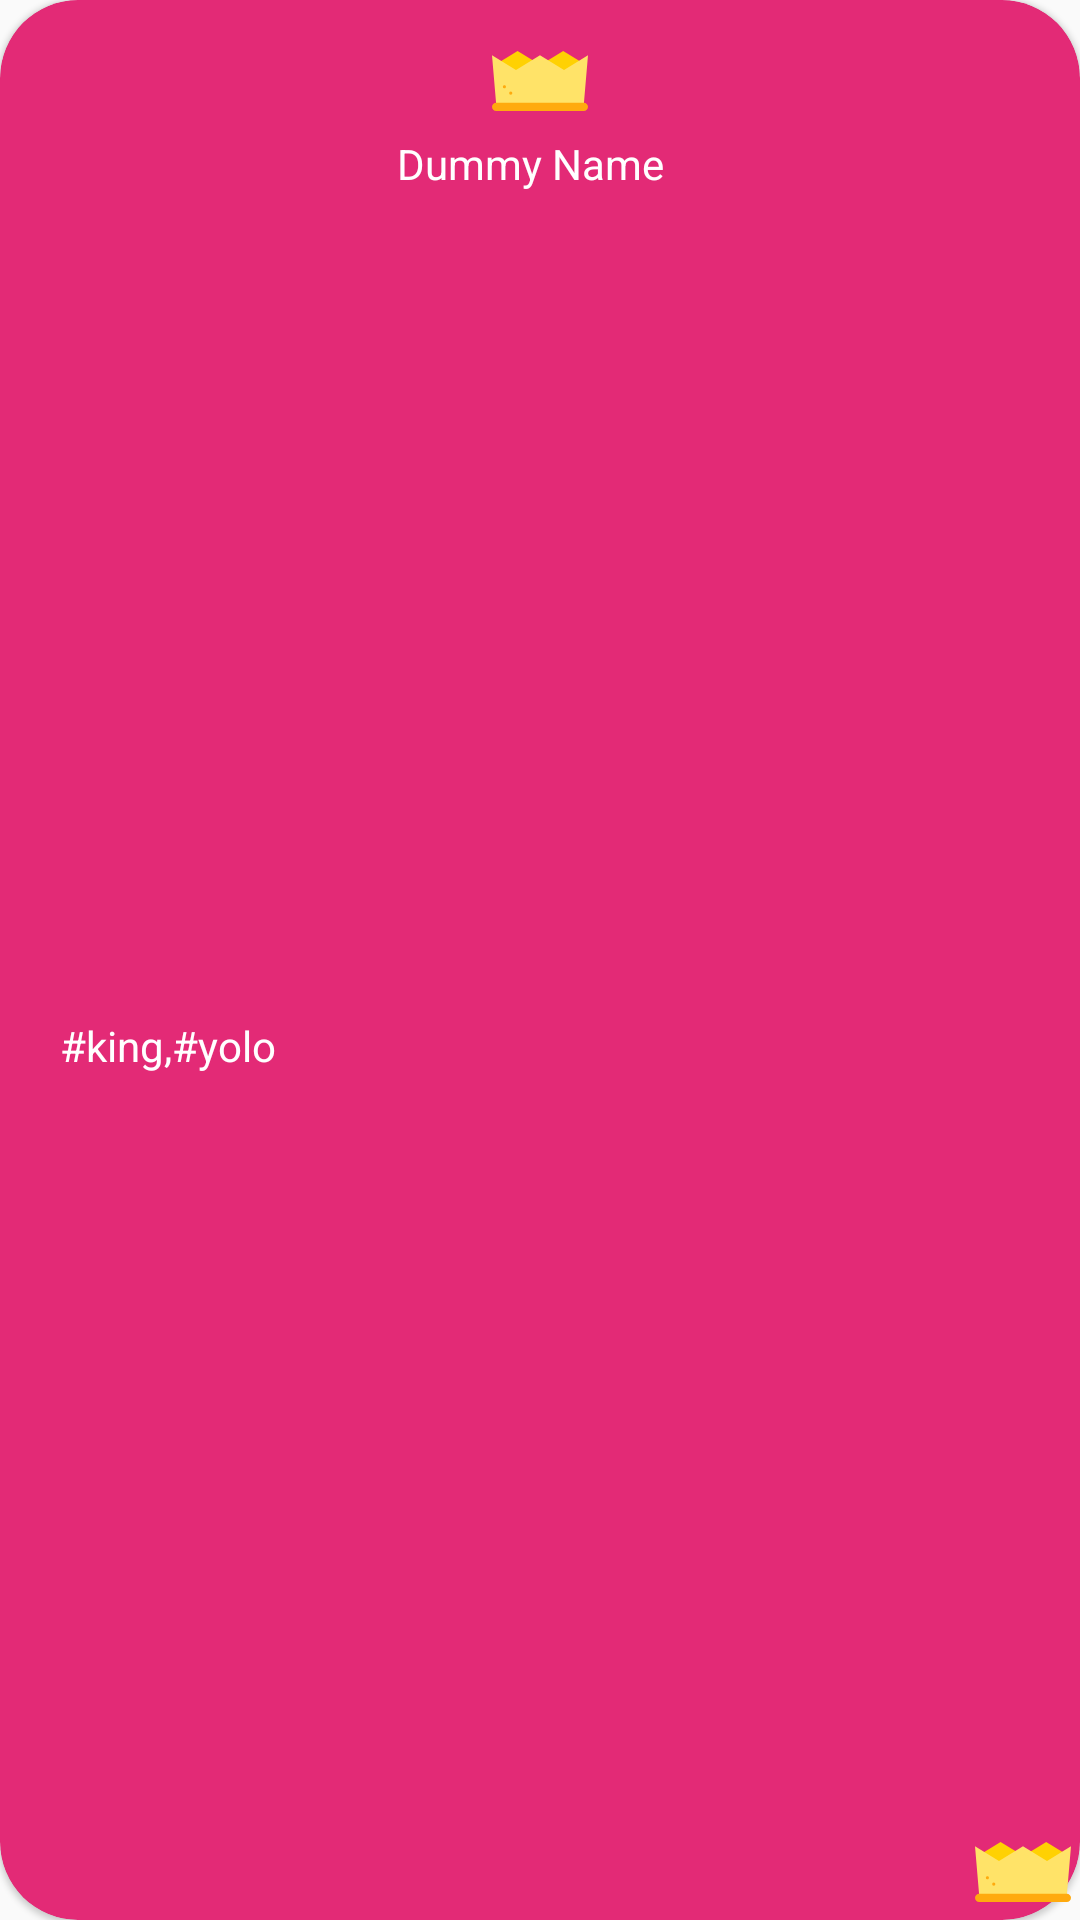

Where to tap for icons on this 1080px×1920px app screen, as point (x, y):
premium: point (540, 81), point (1027, 1881)
